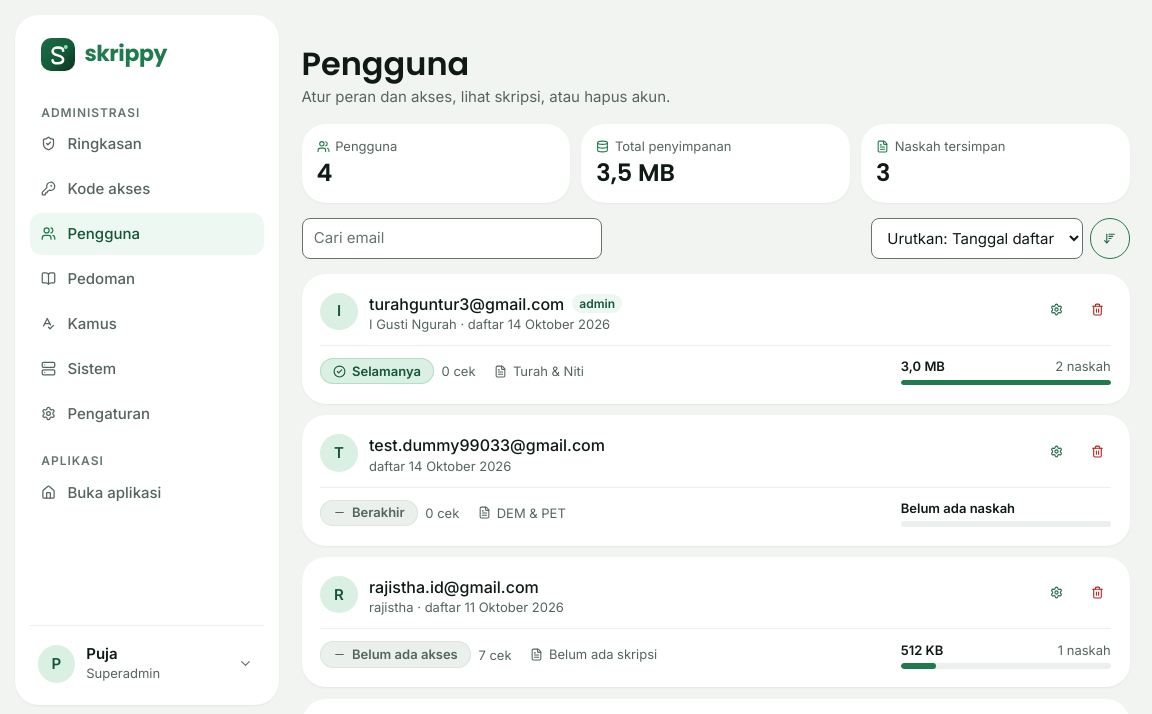
halaman pengguna › ikon atur membuka satu modal Kelola pengguna dengan nama dan email
Click the button named "Atur akun: rajistha.id@gmail.com" at (1056, 593), box [1036,572,1077,613]
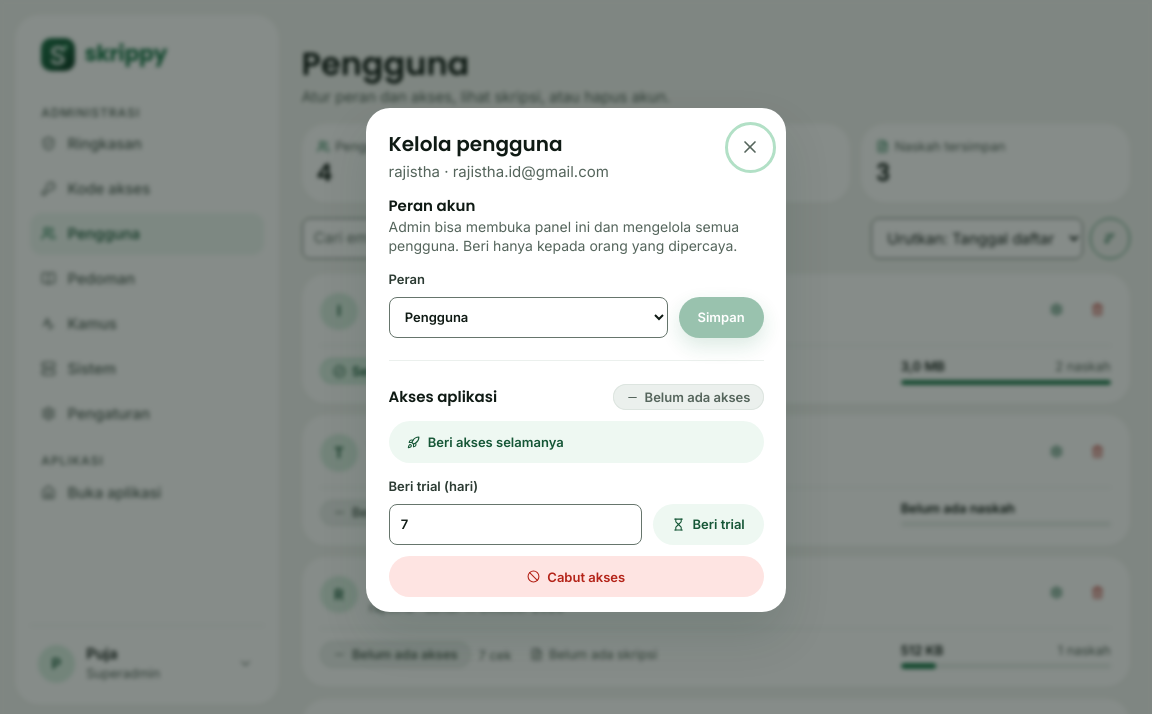
Now the heading "Kelola pengguna" is shown, box [388,129,562,157]
Now the text "rajistha · rajistha.id@gmail.com" is shown, box [388,161,609,180]
Now the heading "Peran akun" is shown, box [388,195,475,216]
